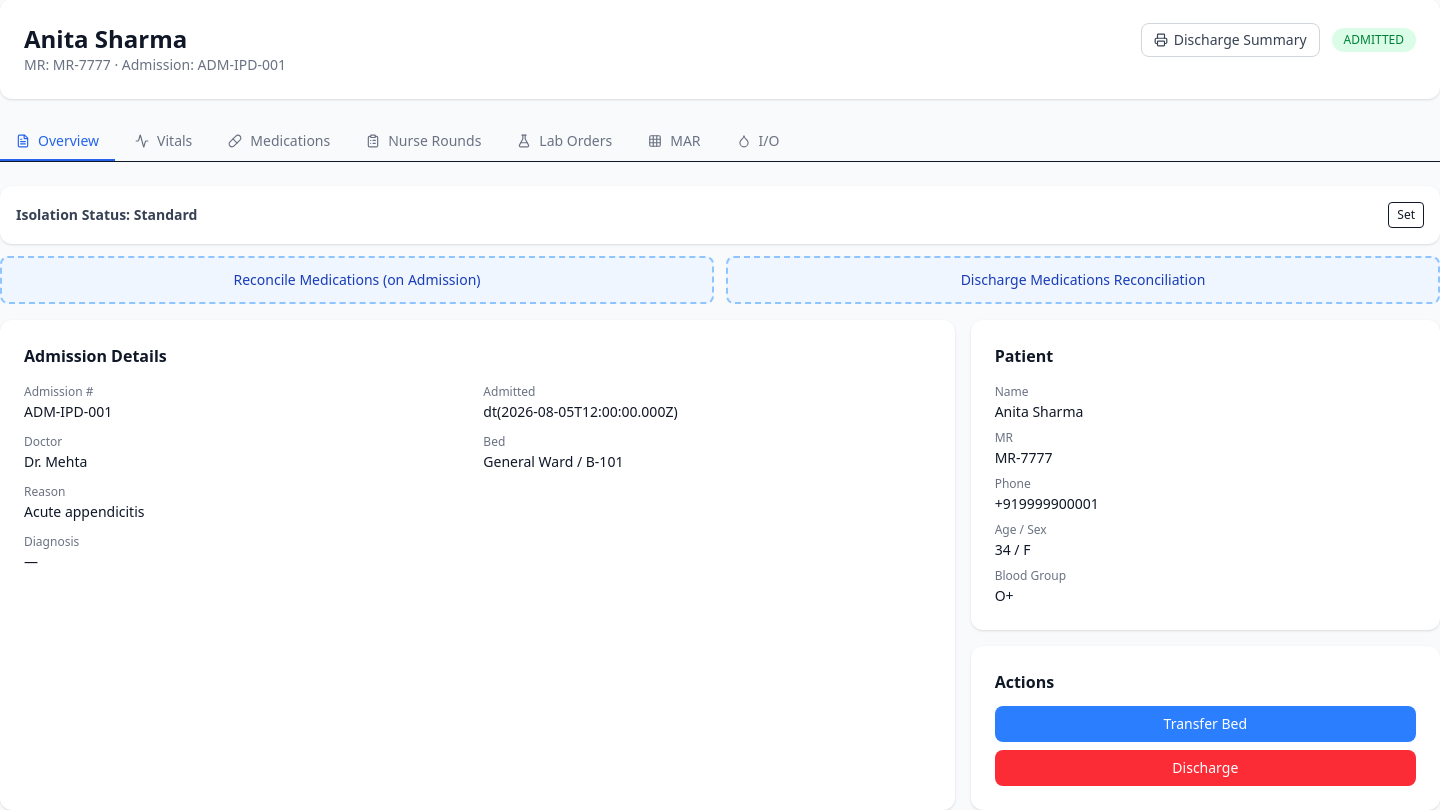
Test: AdmissionDetailPage (IPD admission detail — top-level wiring + tabs) › Discharge: clicking Discharge → readiness modal renders rows; Cancel closes
(page scrolled)
Click the button "Discharge" at (1205,768), box left=995, top=750, right=1416, bottom=786
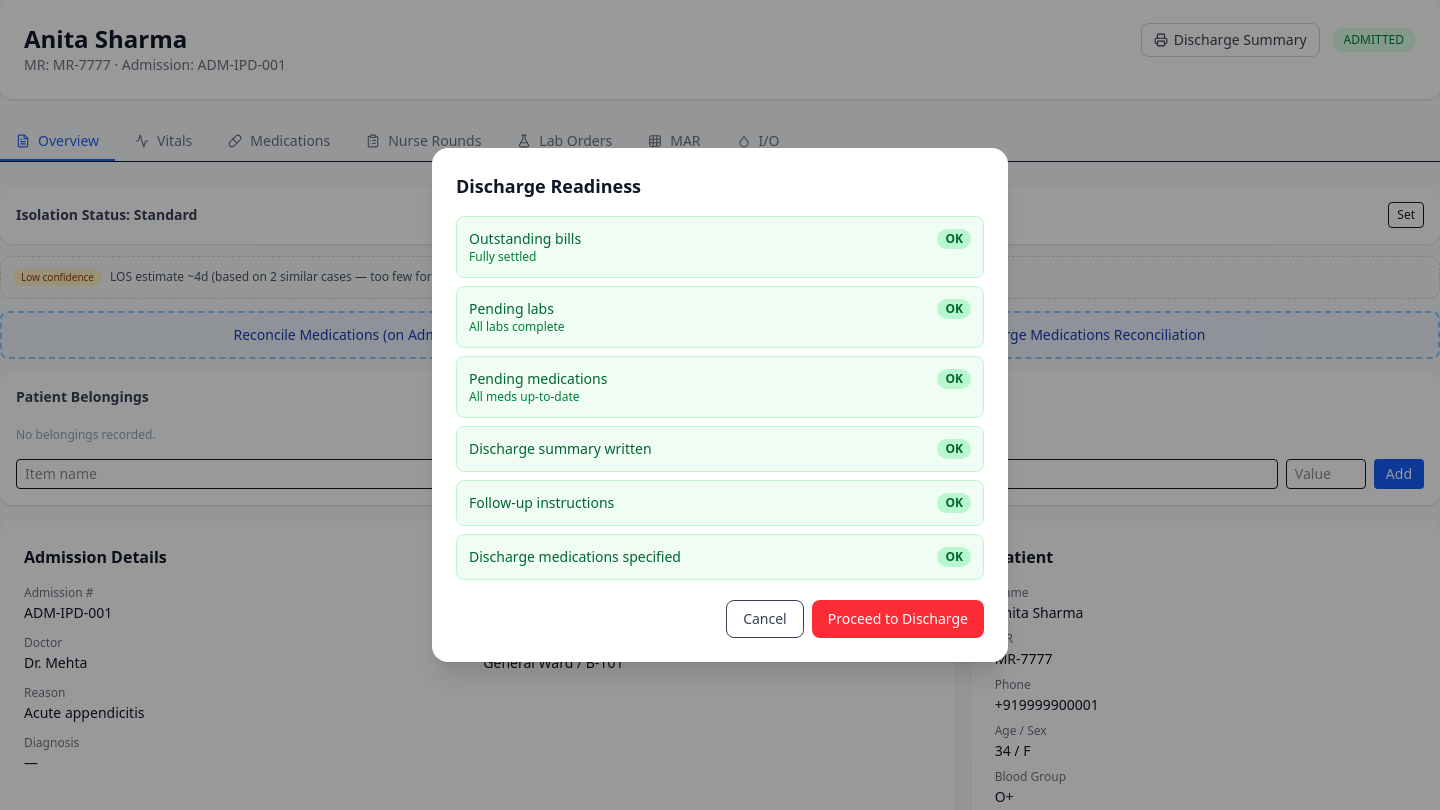
Check: the heading "Discharge Readiness" is shown, box left=456, top=174, right=641, bottom=198
Check: the text "Outstanding bills" is shown, box left=469, top=229, right=581, bottom=249
Check: the text "Pending labs" is shown, box left=469, top=299, right=565, bottom=319
Note: Cancel closes
Click the button "Cancel" at (765,619), box left=726, top=600, right=804, bottom=638
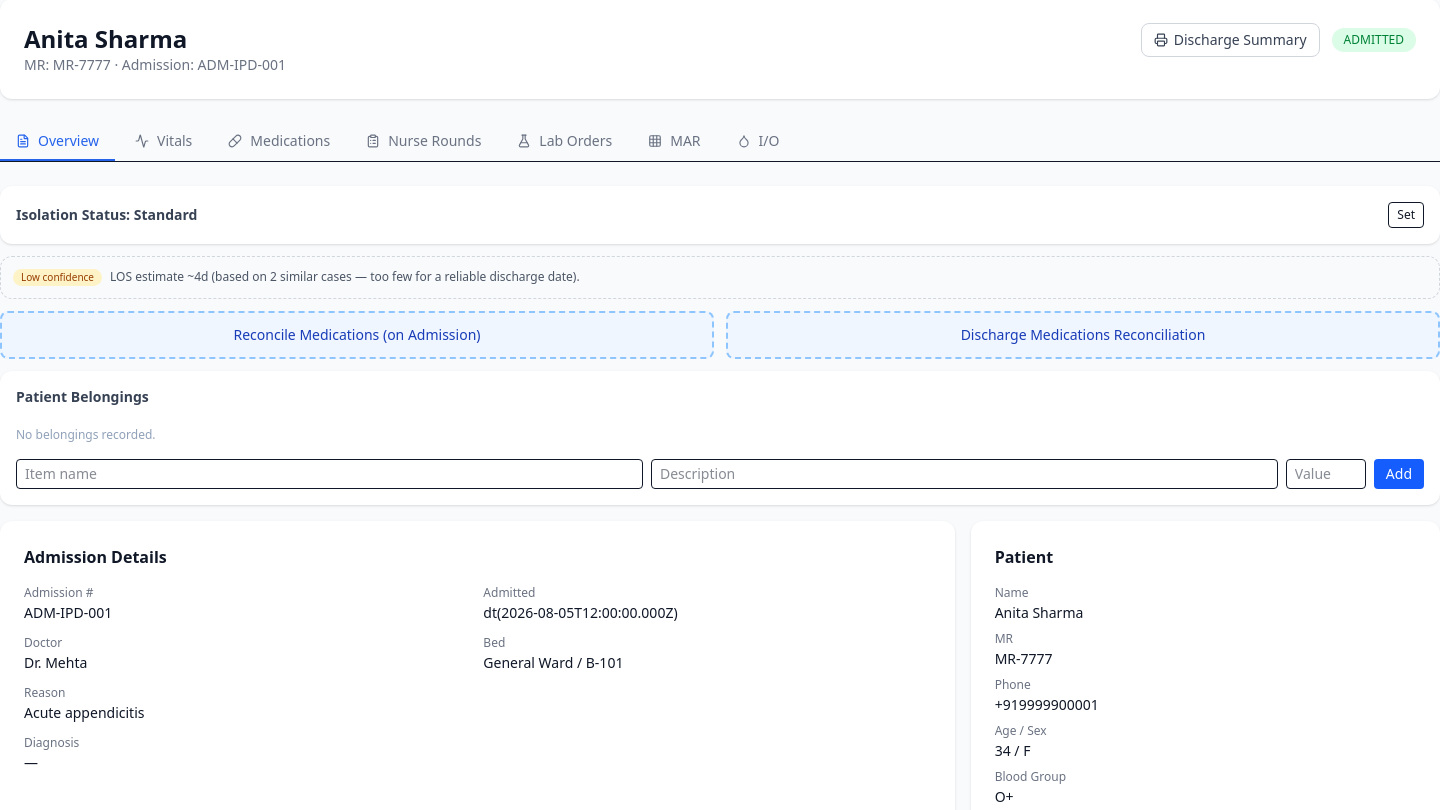
Check: the heading "Discharge Readiness" is gone
